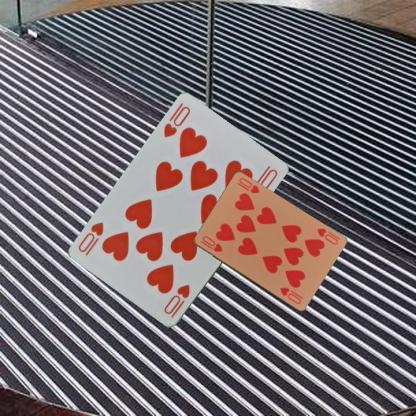10h: (160, 104, 192, 140), (161, 282, 191, 320), (197, 233, 224, 254), (314, 225, 340, 246)
